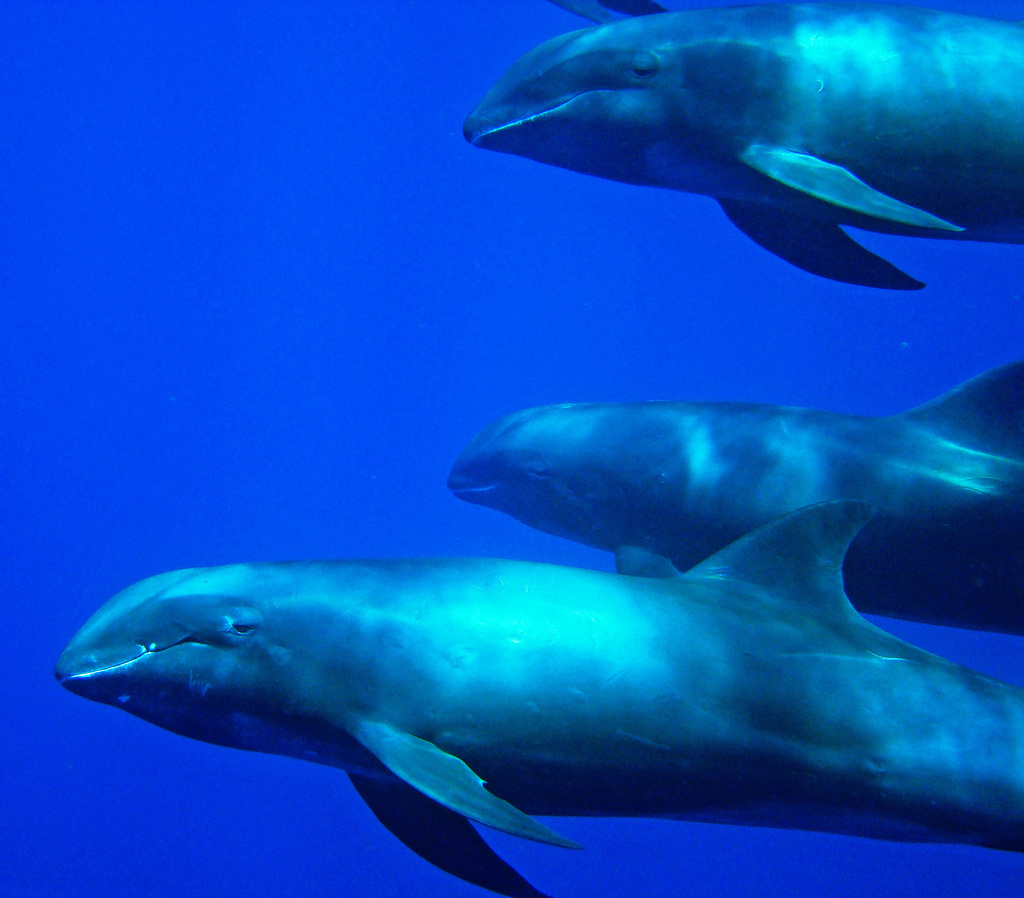Fish: (53, 495, 1023, 898), (445, 360, 1024, 636), (455, 0, 1024, 235)
